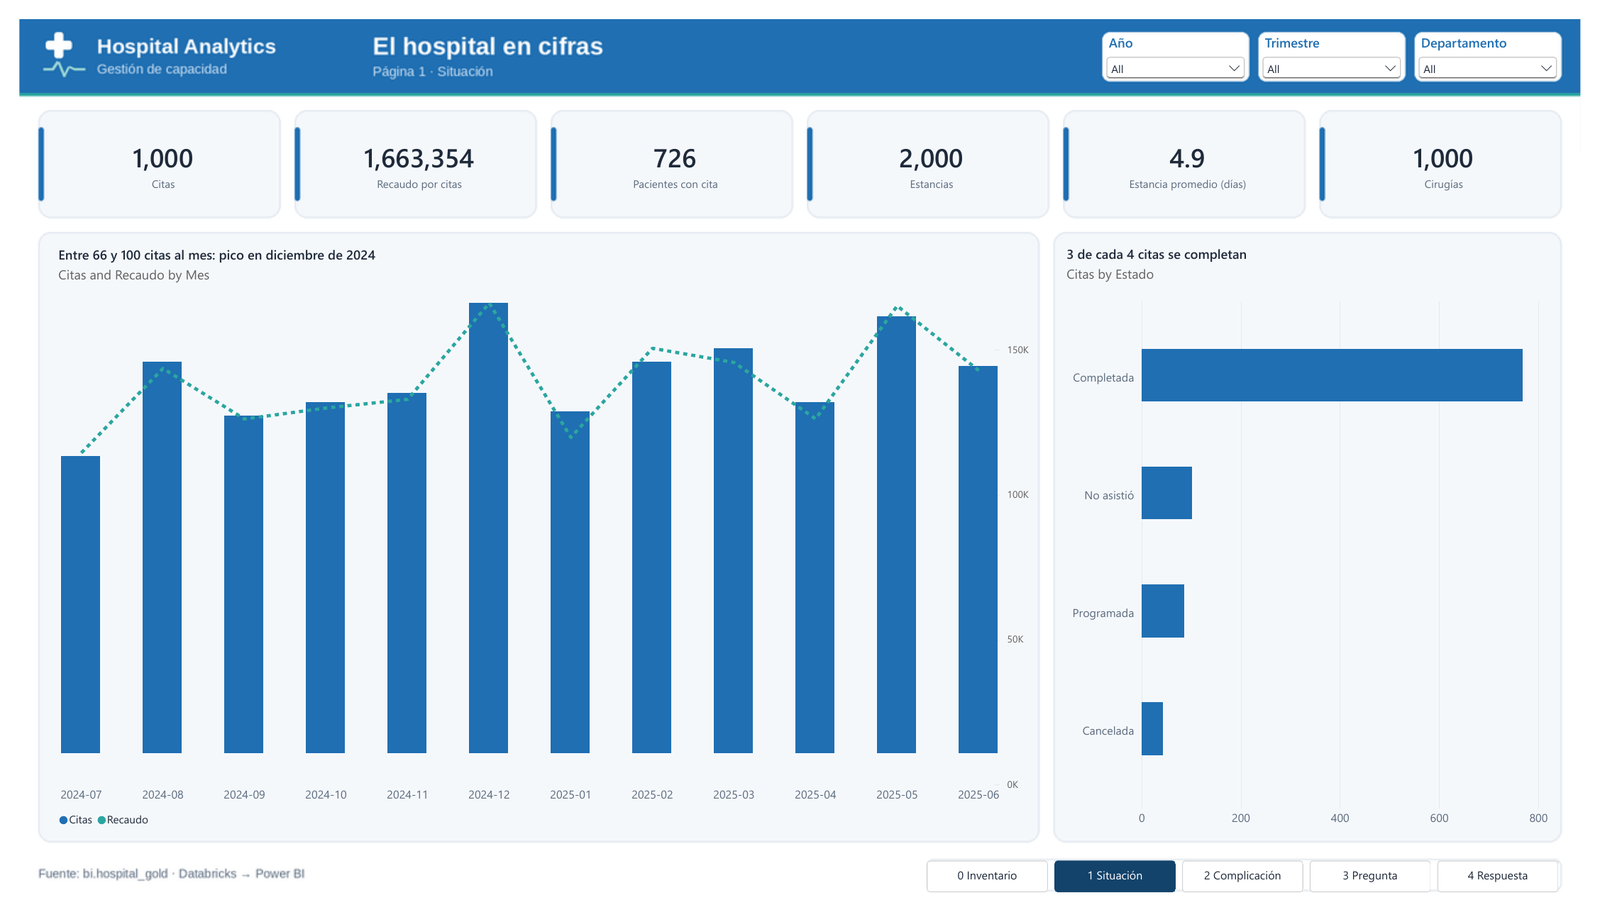

This screenshot's page, from the dashboard's own definition file:
{"tool":"powerbi","page":{"name":"1 Situación","canvas":[1920,1080],"ordinal":1},"visuals":[{"type":"card","fields":{"Values":["_Medidas.Total Citas"]},"box":[39,120,276,120],"z":0},{"type":"card","fields":{"Values":["_Medidas.Recaudo Citas"]},"box":[354,120,276,120],"z":1000},{"type":"card","fields":{"Values":["_Medidas.Pacientes con Cita"]},"box":[669,120,276,120],"z":2000},{"type":"card","fields":{"Values":["_Medidas.Total Estancias"]},"box":[984,120,276,120],"z":3000},{"type":"card","fields":{"Values":["_Medidas.Estancia Promedio (días)"]},"box":[1299,120,276,120],"z":4000},{"type":"card","fields":{"Values":["_Medidas.Total Cirugías"]},"box":[1614,120,276,120],"z":5000},{"type":"lineClusteredColumnComboChart","title":"Entre 66 y 100 citas al mes: pico en diciembre de 2024","fields":{"Category":["dim_date.year_month"],"Y":["_Medidas.Total Citas"],"Y2":["_Medidas.Recaudo Citas"]},"box":[31.7,264.6,1230,750],"z":6000},{"type":"clusteredBarChart","title":"3 de cada 4 citas se completan","fields":{"Category":["fact_appointments.status"],"Y":["_Medidas.Total Citas"]},"box":[1272,264,624,750],"z":7000},{"type":"slicer","fields":{"Values":["dim_date.year"]},"box":[1332,18,180,60],"z":8000},{"type":"slicer","fields":{"Values":["dim_date.quarter_name"]},"box":[1524,18,180,60],"z":9000},{"type":"slicer","fields":{"Values":["dim_departments.department_name"]},"box":[1716,18,180,60],"z":10000},{"type":"pageNavigator","box":[1116,1035,780,39],"z":11000}]}

Visuals, with their boxes in screenshot pixels (x1, y1, x2, y2), scaled from the page's 1920x1080 canvas onto the 1600x917 screenshot:
card - _Medidas.Total Citas: [left=32, top=102, right=262, bottom=204]
card - _Medidas.Recaudo Citas: [left=295, top=102, right=525, bottom=204]
card - _Medidas.Pacientes con Cita: [left=558, top=102, right=788, bottom=204]
card - _Medidas.Total Estancias: [left=820, top=102, right=1050, bottom=204]
card - _Medidas.Estancia Promedio (días): [left=1082, top=102, right=1312, bottom=204]
card - _Medidas.Total Cirugías: [left=1345, top=102, right=1575, bottom=204]
"Entre 66 y 100 citas al mes: pico en diciembre de 2024" lineClusteredColumnComboChart: [left=26, top=225, right=1051, bottom=861]
"3 de cada 4 citas se completan" clusteredBarChart: [left=1060, top=224, right=1580, bottom=861]
slicer - dim_date.year: [left=1110, top=15, right=1260, bottom=66]
slicer - dim_date.quarter_name: [left=1270, top=15, right=1420, bottom=66]
slicer - dim_departments.department_name: [left=1430, top=15, right=1580, bottom=66]
pageNavigator: [left=930, top=879, right=1580, bottom=912]
